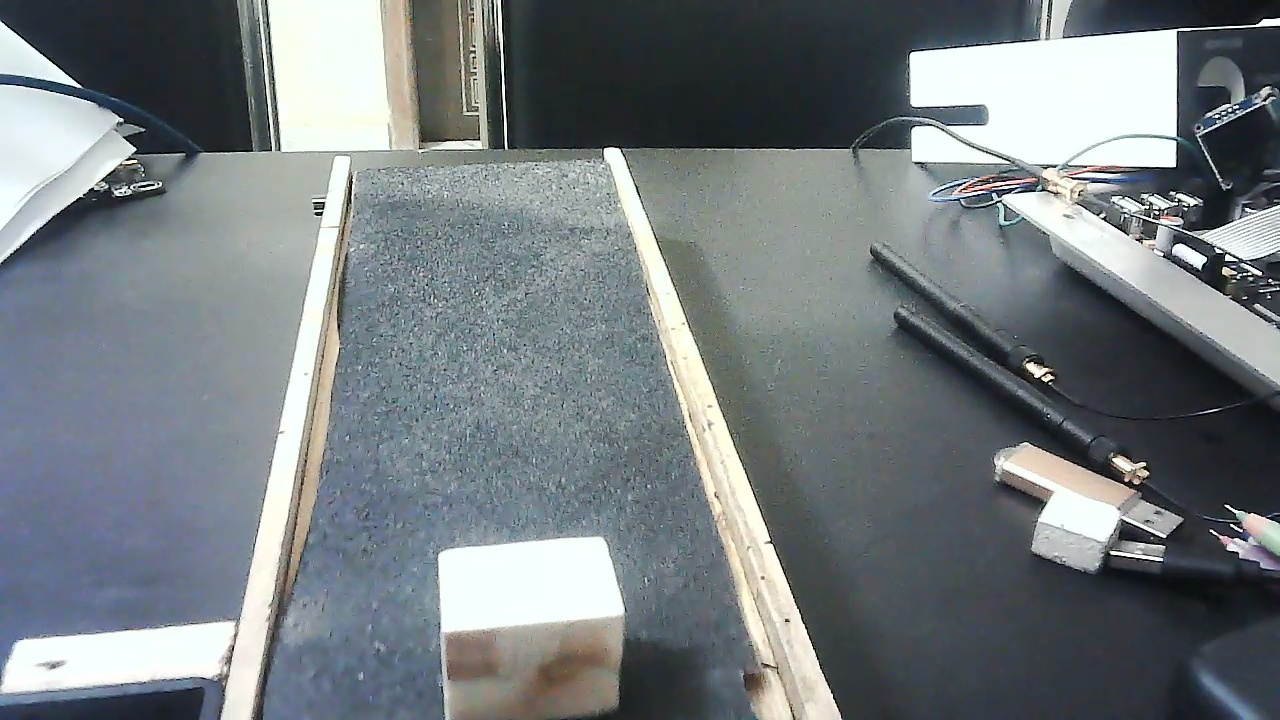Medium: (439, 534, 624, 720)
